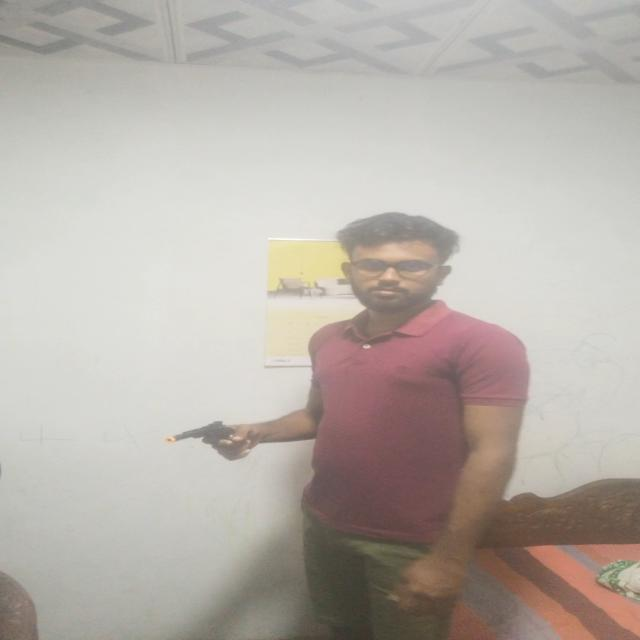Gun_Holder: (163, 416, 268, 465)
Person: (215, 211, 541, 640)
